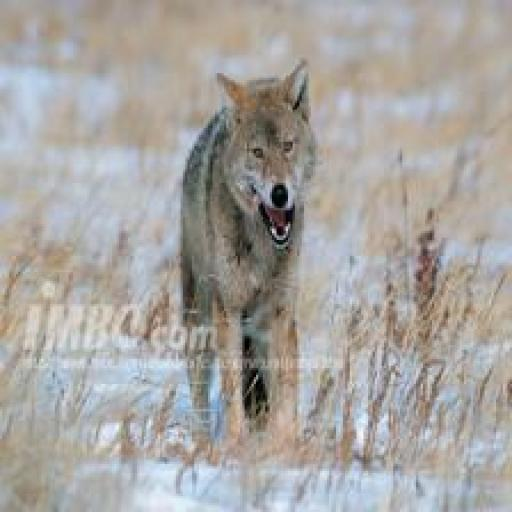wolf: (183, 55, 315, 458)
